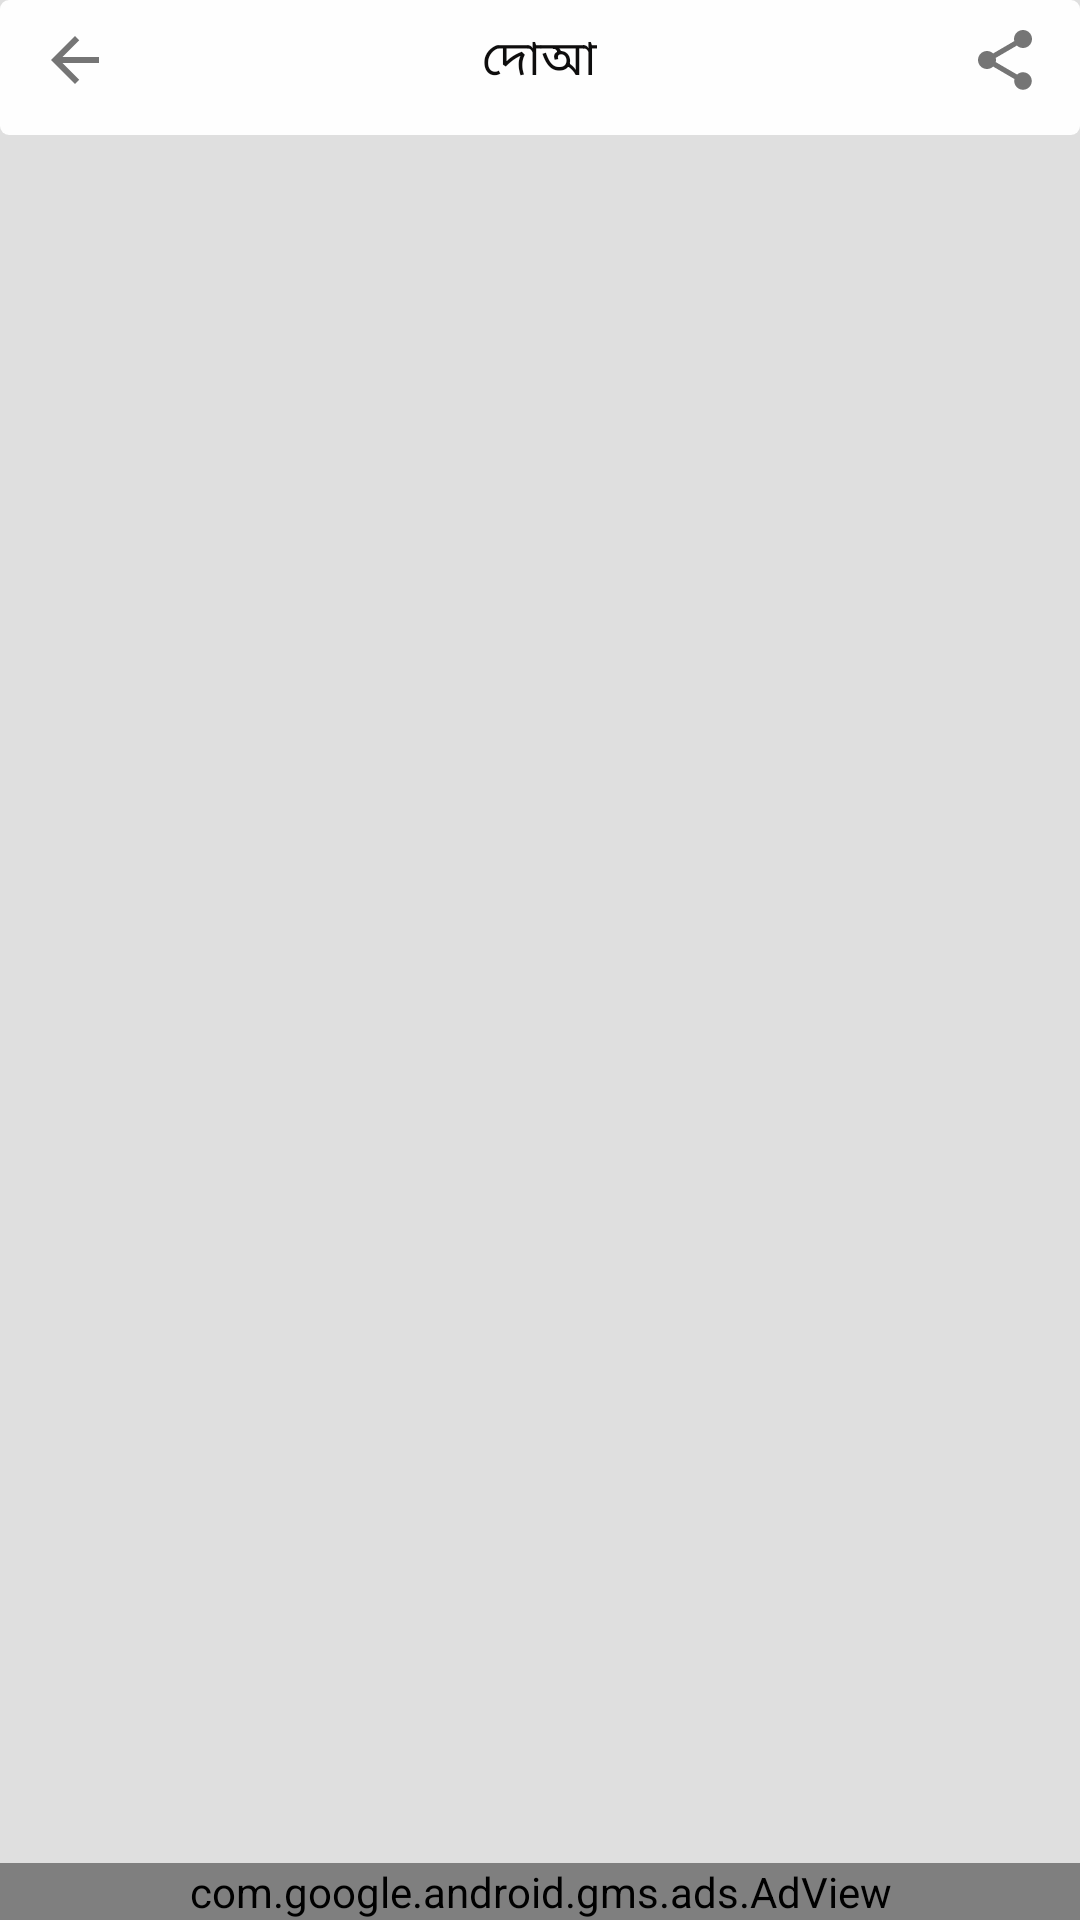

Point at icon controls on the screen. Image size 1080 x 1920, points as (x,y).
back: (75,60)
share: (1005,60)
